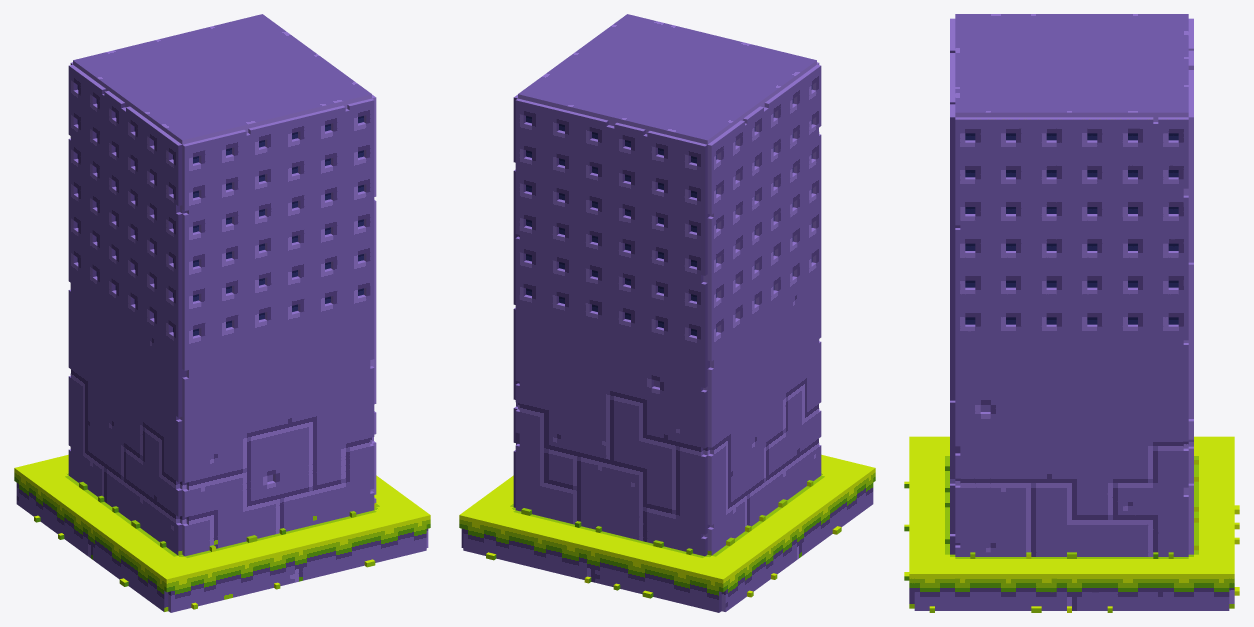
The model's file is code_machine_aao.fezao.glb.
The picture shows the model from 3 angles, left to right: view 1: azimuth 30°, elevation 25°; view 2: azimuth 150°, elevation 25°; view 3: azimuth 270°, elevation 25°; orthographic projection. The views are drawn at different scales.
Visible parts, largest first — view 1: CODE_MACHINE_AAO; view 2: CODE_MACHINE_AAO; view 3: CODE_MACHINE_AAO.
Boxes of the visible parts, box(x1,y1,x2,y2) form: CODE_MACHINE_AAO: box(14, 14, 430, 612); CODE_MACHINE_AAO: box(459, 14, 875, 612); CODE_MACHINE_AAO: box(904, 14, 1239, 612).
Size of the model in its own units: 4.12 by 6.5 by 4.12.
Materials: 1 (1 with a texture image).
